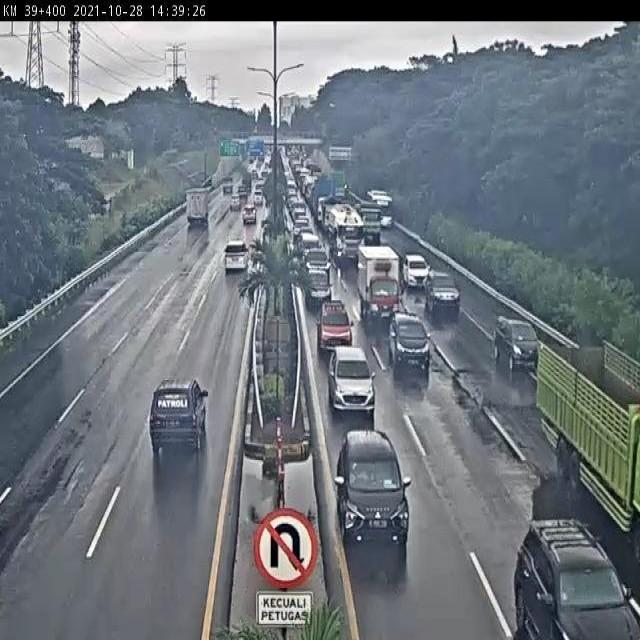big truck: (518, 316, 640, 543), (328, 200, 365, 272)
car: (512, 485, 640, 640), (330, 425, 407, 552), (143, 368, 216, 475), (323, 339, 378, 420), (386, 311, 433, 378), (491, 313, 538, 375), (315, 297, 359, 355), (424, 266, 461, 318), (220, 235, 253, 277), (399, 250, 429, 290), (235, 202, 261, 235), (248, 188, 266, 212), (226, 195, 246, 213), (232, 562, 233, 570)
small truck: (348, 242, 402, 322), (181, 180, 217, 236)
